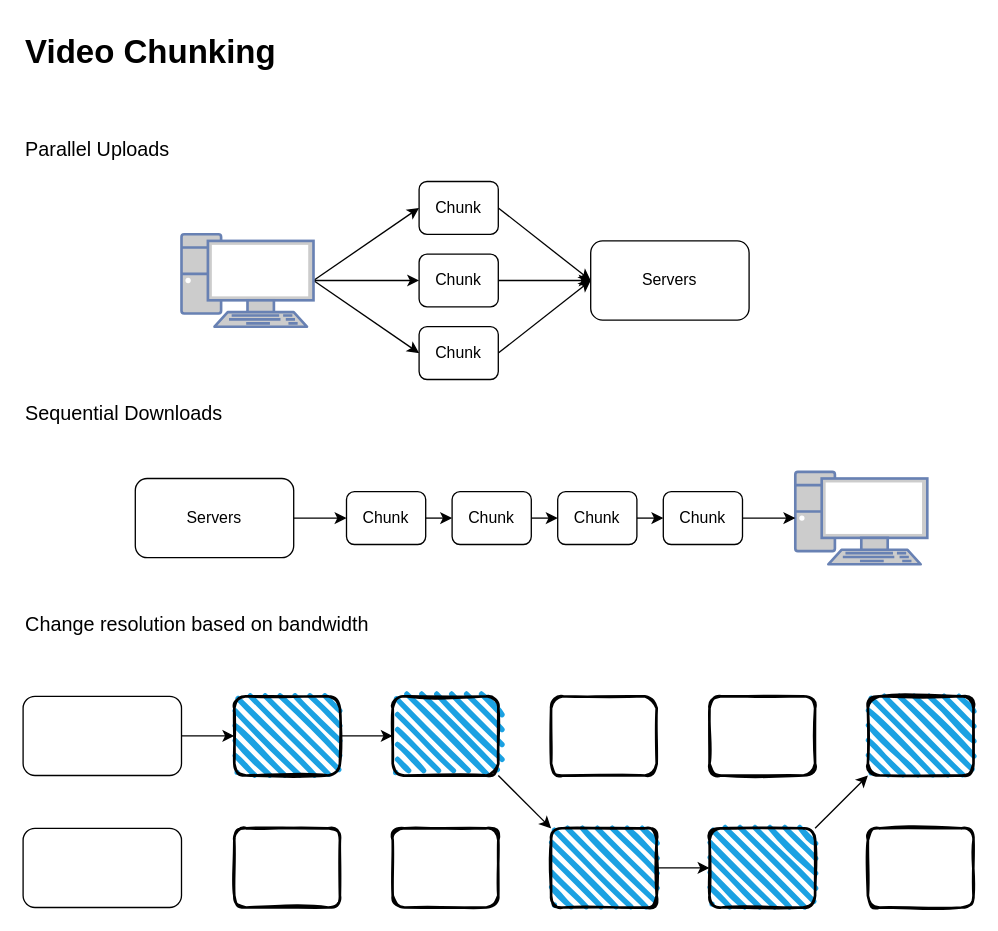
This 998x931 diagram has some shape labels left out. The shapes that lost their labels are listed below. From the top down, each one's centre as x and y in pixels, then its label:
At (x=102, y=735): "720p".
At (x=102, y=867): "1080p".
